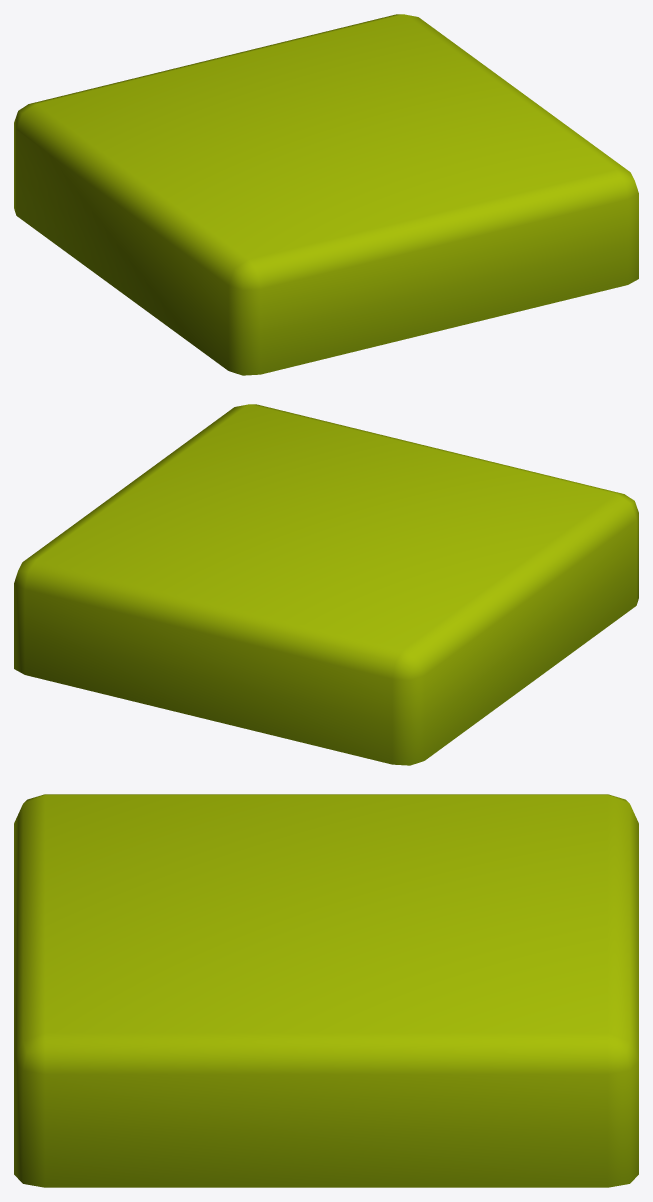
File: 3D_Tile_Top_01.fbx
3 renders of one model, top to bottom at view 1: azimuth 30°, elevation 25°; view 2: azimuth 150°, elevation 25°; view 3: azimuth 270°, elevation 25°, orthographic. The views are drawn at different scales.
Visible parts, largest first — view 1: 3D_Tile_Top_01; view 2: 3D_Tile_Top_01; view 3: 3D_Tile_Top_01.
Boxes of the visible parts, x1,y1,x2,y2 form: 3D_Tile_Top_01: (14,14,638,375); 3D_Tile_Top_01: (14,404,638,765); 3D_Tile_Top_01: (14,794,638,1187).
Bounding box in the file's own units: 200 × 50 × 200.
